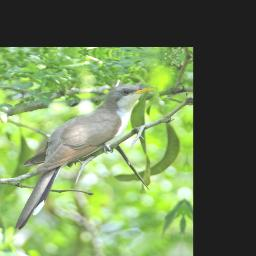Cuckoo: (14, 79, 156, 236)
